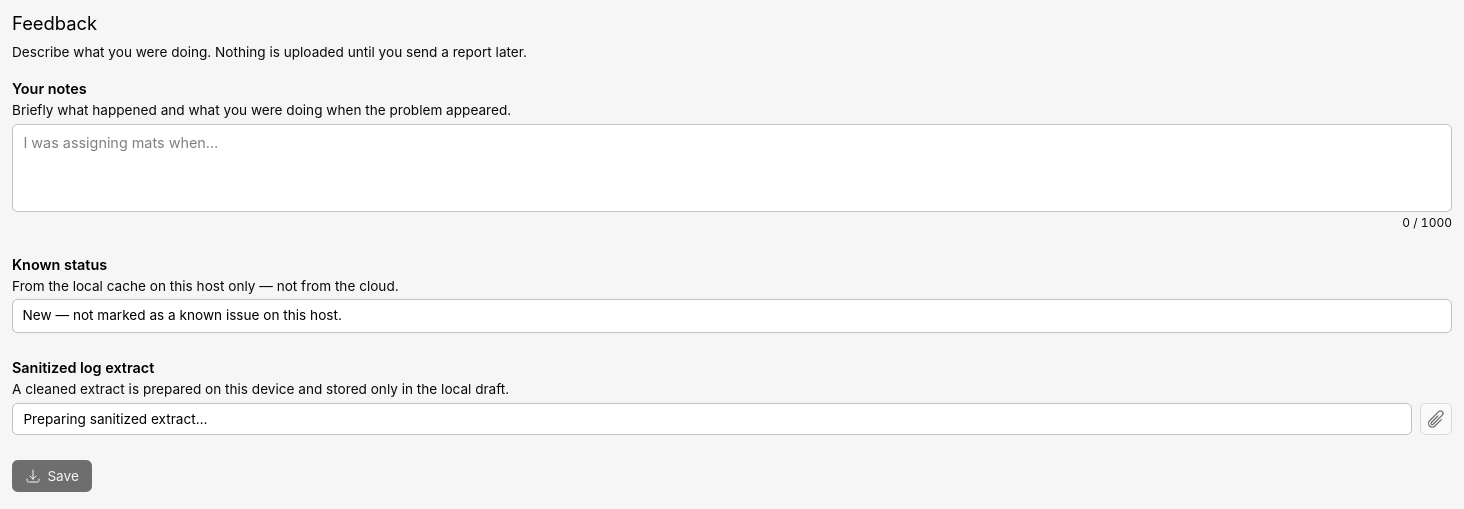
Test: FeedbackForm › shows attachment error when sanitize fails
Click the button with class "feedback-form__button--secondary": (1436, 418) [1420, 402, 1452, 434]
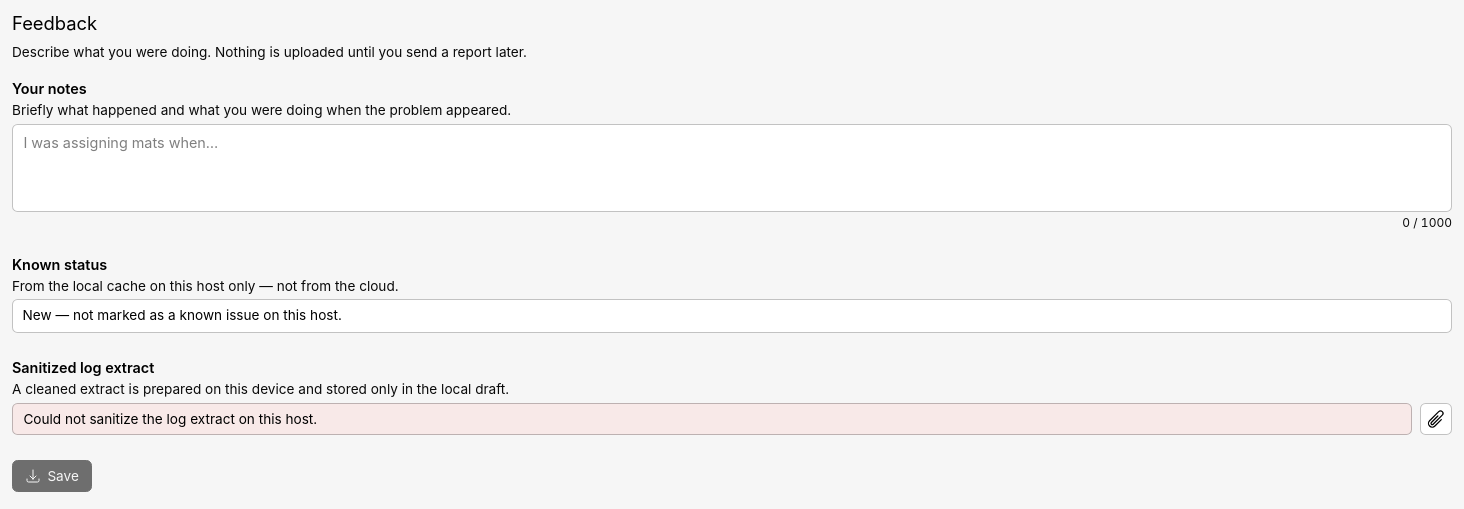
Expected: the field with test id "feedback-form-attachment-status" holds "Could not sanitize the log extract on this host.", [12, 402, 1412, 434]
